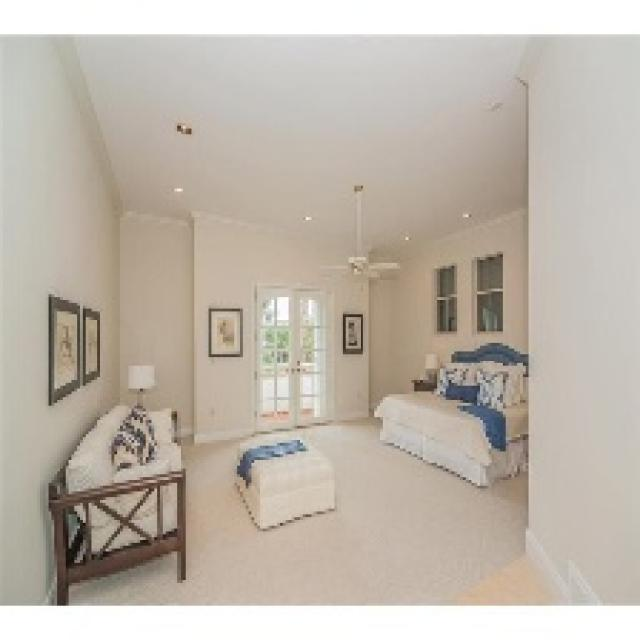Bed: (372, 340, 528, 486)
